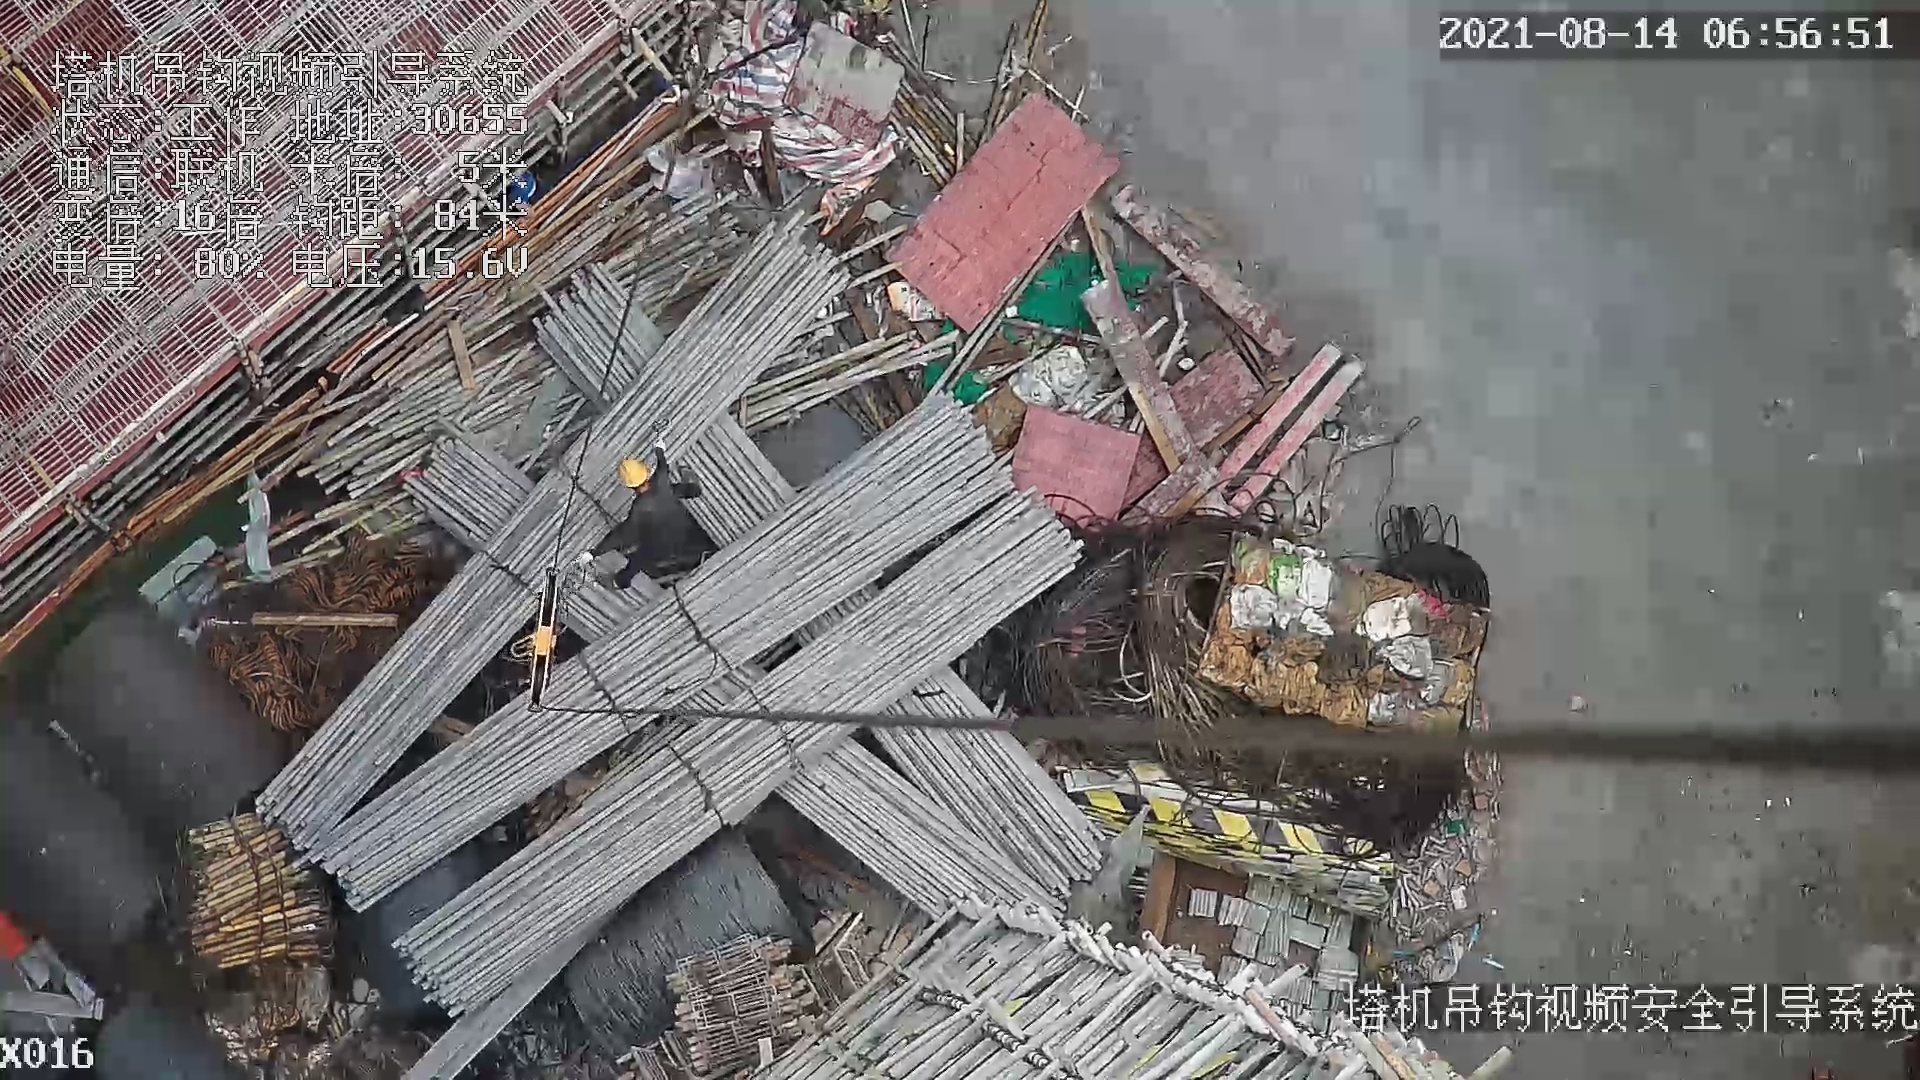helmet: (619, 459, 647, 487)
hook: (518, 555, 565, 705)
person: (583, 440, 709, 592)
rebar: (251, 231, 852, 856), (306, 393, 1016, 914), (394, 491, 1089, 1018), (861, 665, 1105, 887), (771, 738, 1069, 919)
wood: (190, 812, 340, 964)
